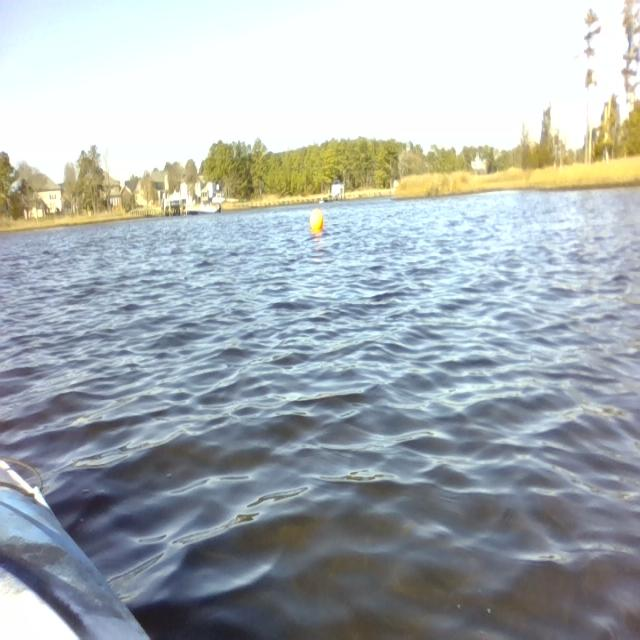Buoy: (304, 202, 328, 240)
